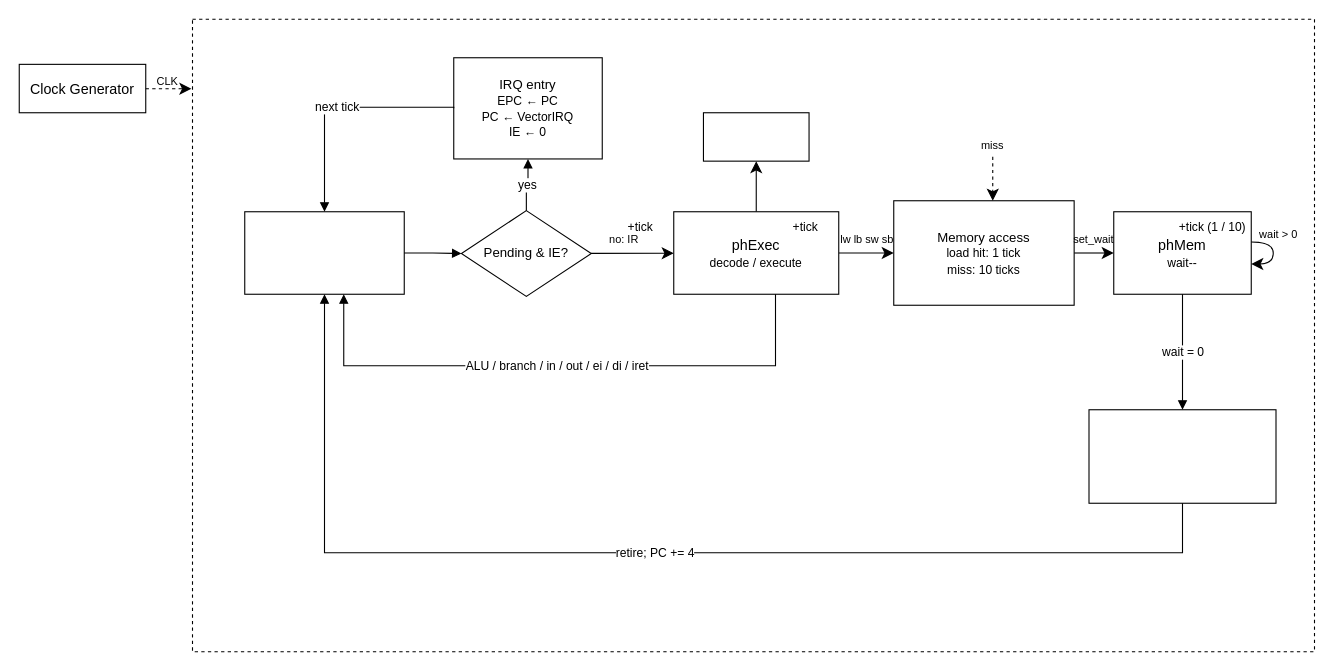
The diagram is 1334 pixels wide and 671 high, and some of its shapes have lost their labels. Each missing label, with the centre of its shape:
Finish memory read / write cache fill / update: the point at 1182,456
HALT / FAULT: the point at 755,136
phFetch fetch IR: the point at 324,252
